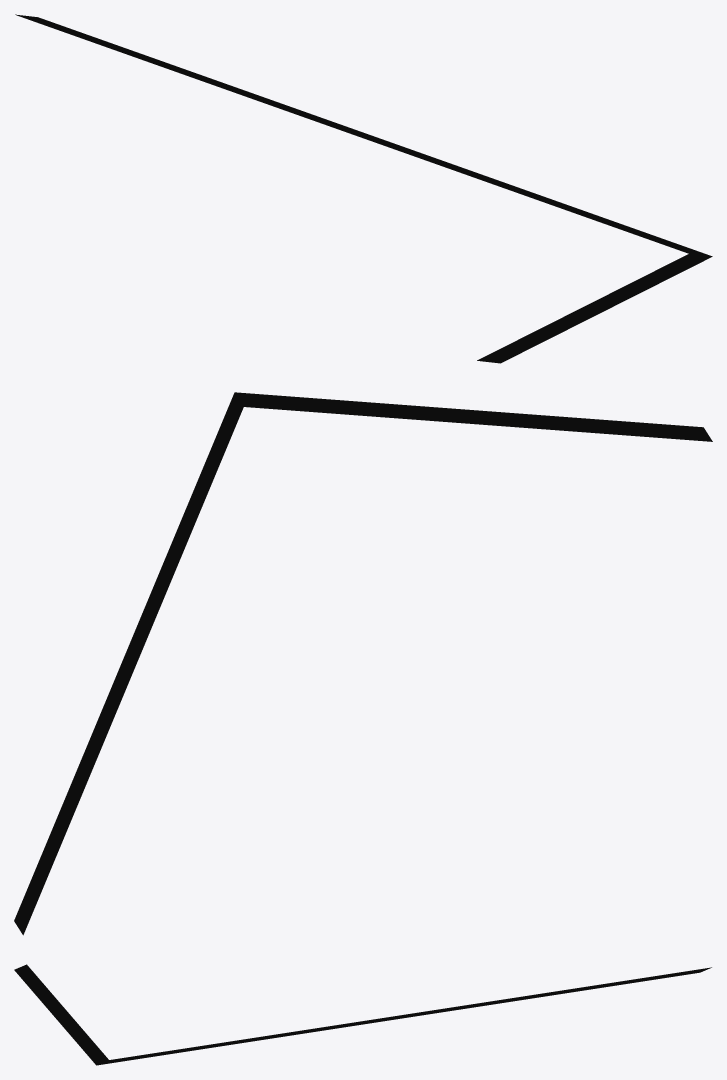
The picture shows the model from 3 angles, top to bottom: view 1: azimuth 30°, elevation 25°; view 2: azimuth 150°, elevation 25°; view 3: azimuth 270°, elevation 25°; orthographic projection. The views are drawn at different scales.
Parts seen in each view (by area): view 1: Joint_0_Object_0; view 2: Joint_0_Object_0; view 3: Joint_0_Object_0.
Part boxes in pixels (x1,y1,x2,y2): Joint_0_Object_0: (15, 14, 712, 363); Joint_0_Object_0: (14, 392, 712, 935); Joint_0_Object_0: (14, 964, 711, 1065).
Size of the model in its own units: 372 by 0 by 1088.
Materials: 1 (1 with a texture image).
